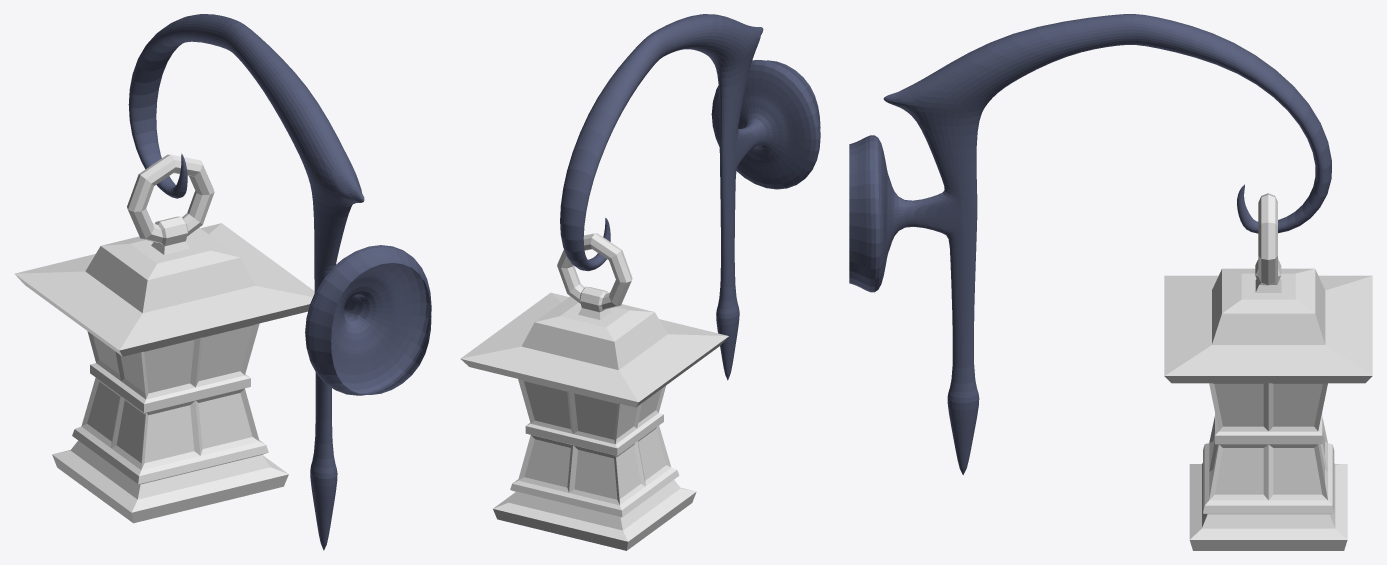
File: lantern.fbx
3 renders of one model, left to right at view 1: azimuth 30°, elevation 25°; view 2: azimuth 150°, elevation 25°; view 3: azimuth 270°, elevation 25°, orthographic. The views are drawn at different scales.
Visible parts, largest first — view 1: MainLantern; view 2: MainLantern; view 3: MainLantern.
Boxes of the visible parts, box(x1,y1,x2,y2) form: MainLantern: box(14, 14, 431, 550); MainLantern: box(460, 14, 820, 550); MainLantern: box(849, 14, 1372, 550).
Bounding box in the file's own units: 50.78 × 118 × 112.
